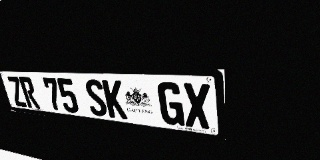5: (56, 78, 80, 114)
7: (41, 78, 65, 112)
G: (157, 82, 185, 126)
K: (102, 80, 128, 119)
R: (18, 77, 41, 109)
S: (83, 79, 109, 117)
X: (182, 83, 211, 130)
Z: (6, 76, 28, 107)
